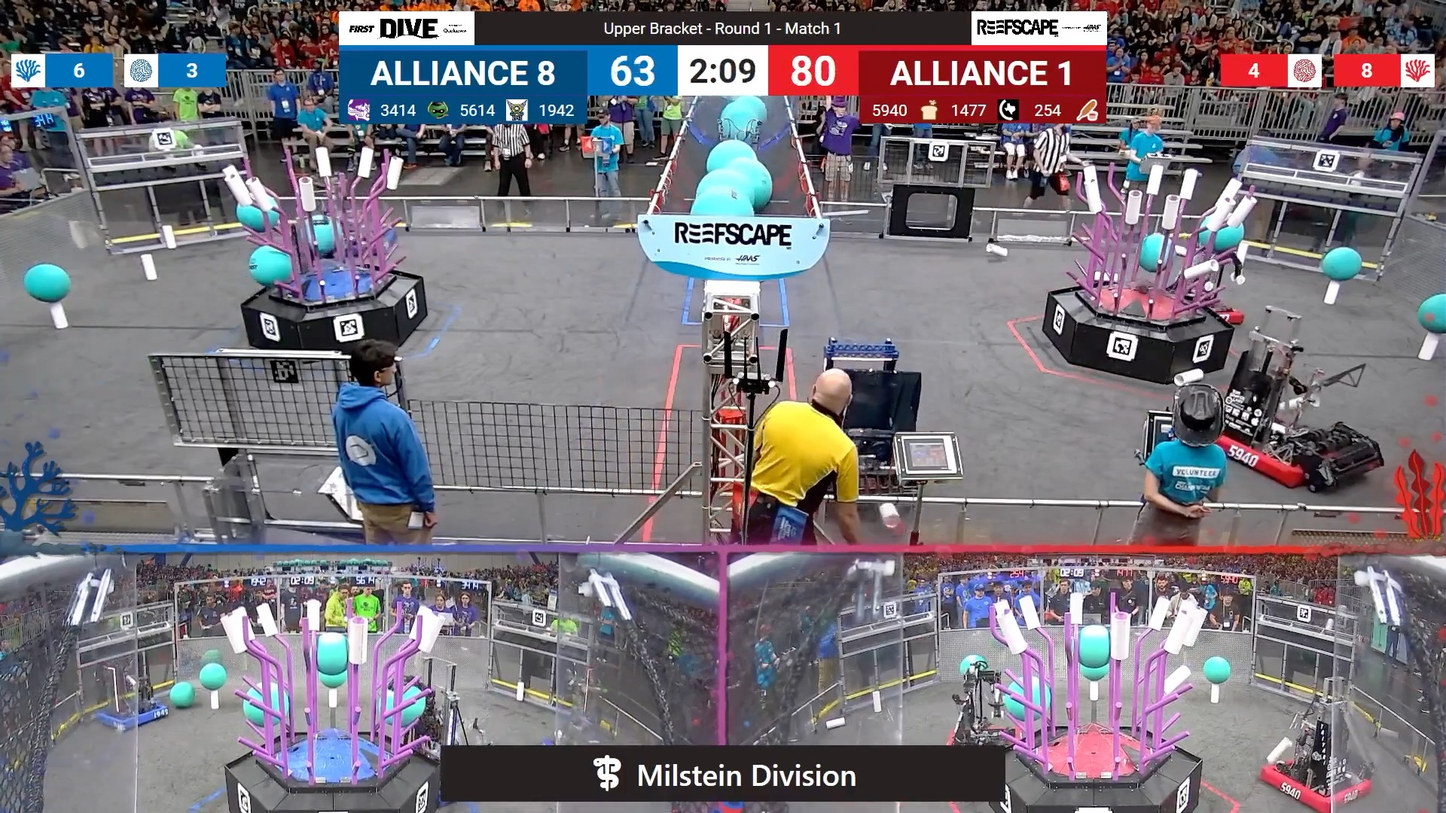bumpers: (1185, 410, 1381, 490), (1251, 756, 1375, 810), (293, 217, 411, 261), (95, 698, 173, 737)
